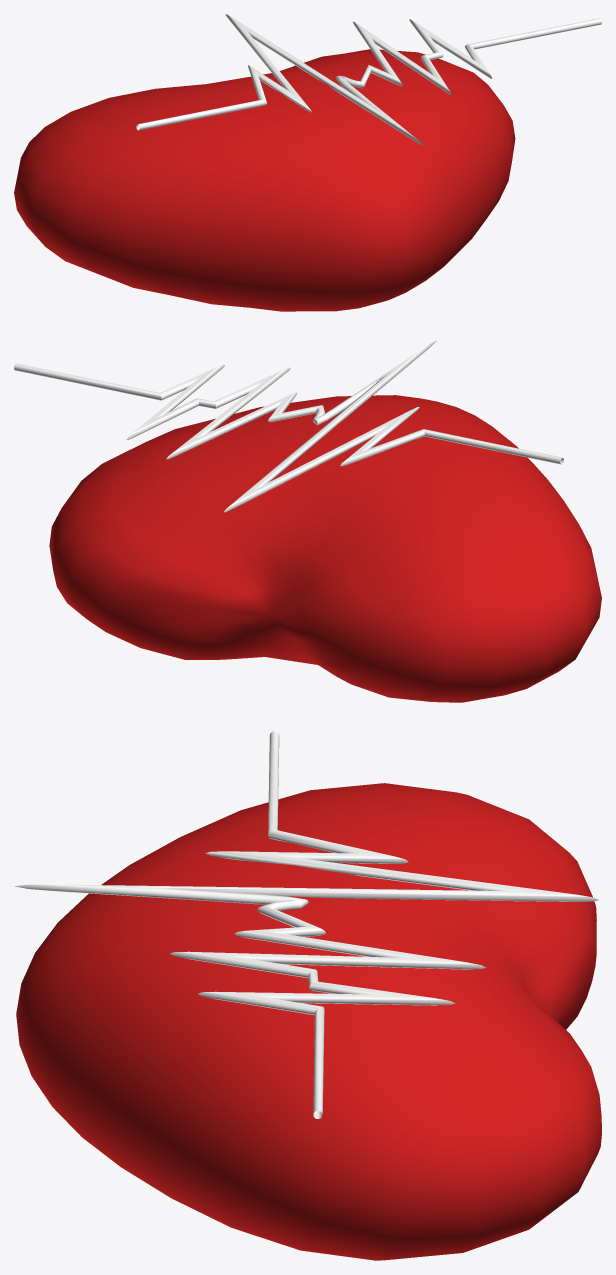
Rendered from Heart.obj.
3 renders of one model, top to bottom at view 1: azimuth 30°, elevation 25°; view 2: azimuth 150°, elevation 25°; view 3: azimuth 270°, elevation 25°, orthographic. The views are drawn at different scales.
Parts seen in each view (by area): view 1: Heart; view 2: Heart; view 3: Heart.
Boxes of the visible parts, left/top/right/bottom form: Heart: left=14, top=14, right=601, bottom=311; Heart: left=14, top=340, right=601, bottom=702; Heart: left=15, top=731, right=601, bottom=1260.
Bounding box in the file's own units: 2.75 × 1 × 1.73.
